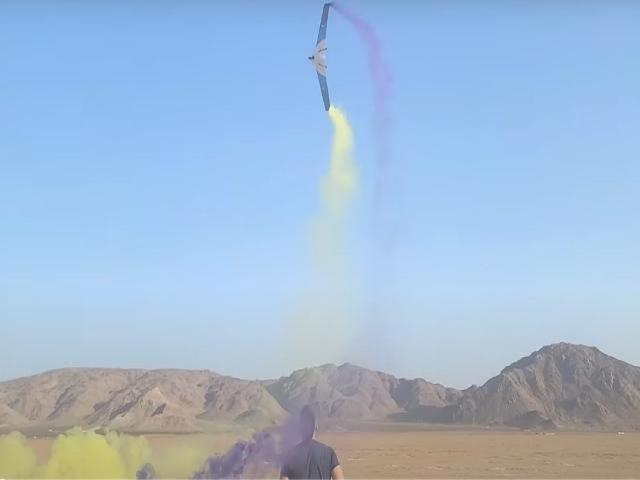iha: (306, 1, 339, 108)
